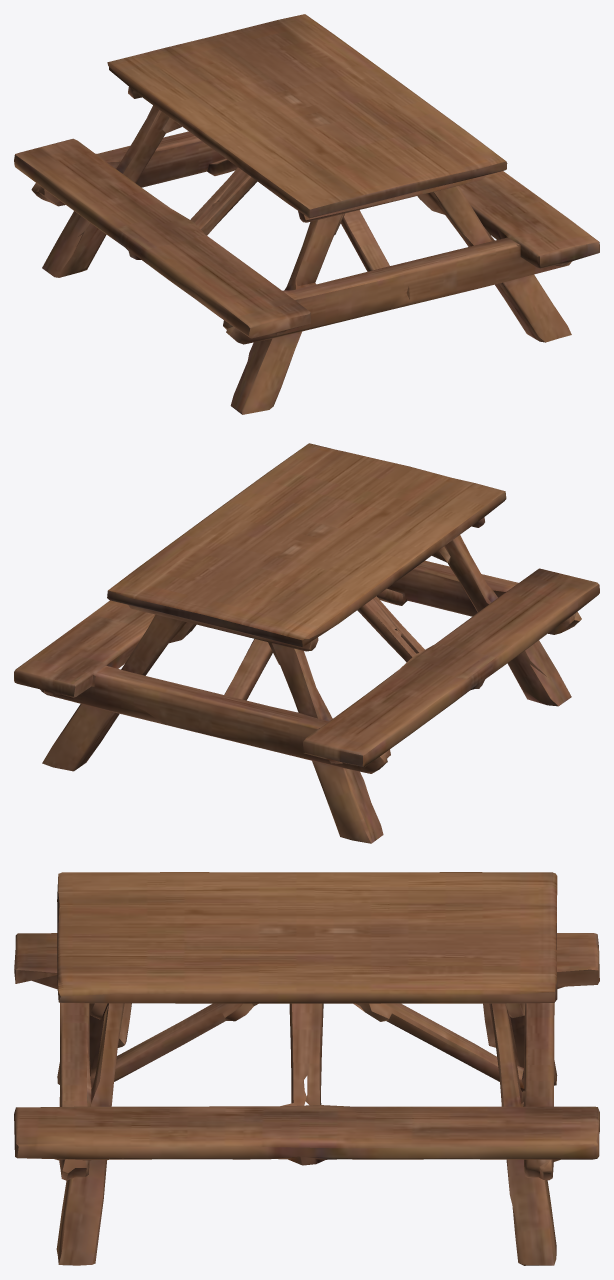
The model's file is picnic.glb.
3 renders of one model, top to bottom at view 1: azimuth 30°, elevation 25°; view 2: azimuth 150°, elevation 25°; view 3: azimuth 270°, elevation 25°, orthographic. The views are drawn at different scales.
Visible parts, largest first — view 1: picnic; view 2: picnic; view 3: picnic.
Part boxes in pixels (x1,y1,x2,y2): picnic: (14,14,599,414); picnic: (14,443,599,843); picnic: (14,872,599,1265).
Size of the model in its own units: 1.44 by 0.75 by 1.68.
1 material, 1 textured.
